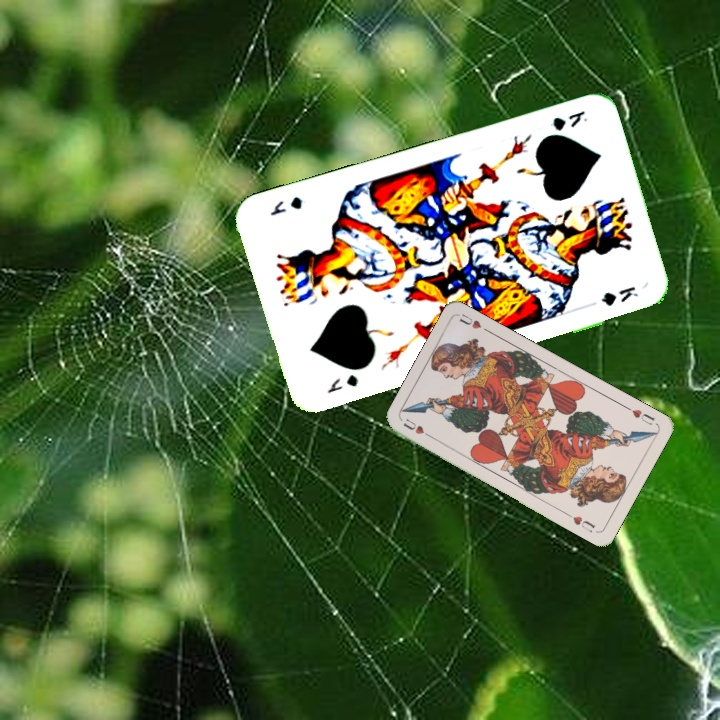GK: (547, 106, 590, 134), (323, 370, 361, 396)
HU: (621, 402, 658, 428), (399, 415, 436, 441)
